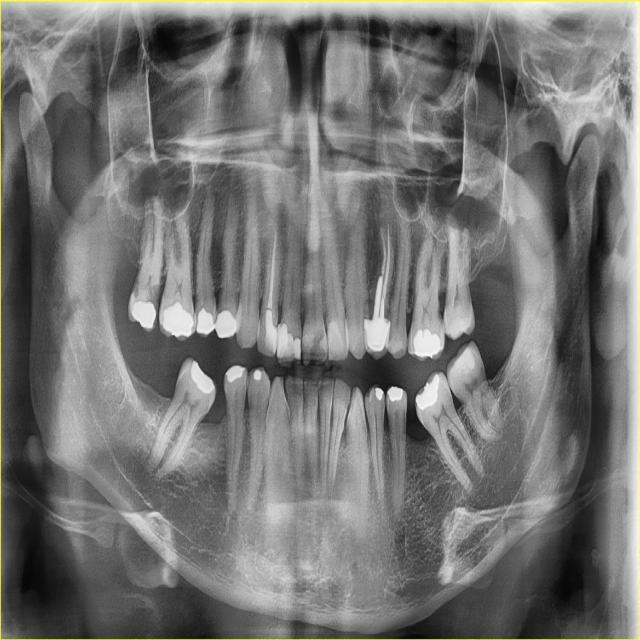Caries: (146, 282, 160, 329), (132, 275, 139, 298), (266, 399, 273, 419), (344, 397, 349, 412), (385, 396, 389, 408), (382, 396, 385, 408)
Crown: (365, 316, 390, 360)
Filling: (163, 300, 193, 337), (412, 328, 442, 359), (276, 322, 301, 359), (415, 374, 439, 410), (191, 360, 215, 394), (215, 309, 239, 338), (131, 301, 155, 329), (264, 308, 278, 353), (452, 347, 475, 373), (196, 307, 215, 335), (328, 321, 343, 356), (302, 324, 315, 353), (226, 366, 245, 383), (388, 387, 403, 401), (320, 337, 328, 353), (375, 387, 383, 400), (253, 368, 262, 379)
Root Canal Treatment: (382, 230, 392, 313), (270, 230, 276, 306), (382, 232, 385, 277)
